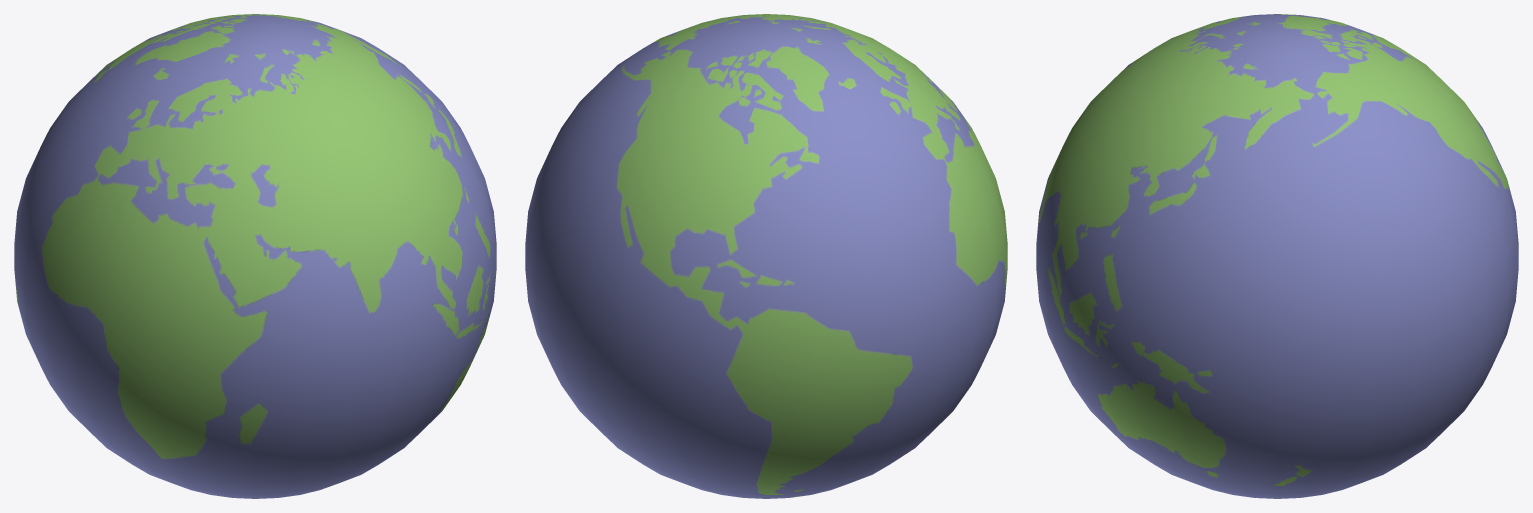
File: Earth Model.fbx
3 views of the same model, side by side, from view 1: azimuth 30°, elevation 25°; view 2: azimuth 150°, elevation 25°; view 3: azimuth 270°, elevation 25° (orthographic).
Visible parts, largest first — view 1: pSphere1; view 2: pSphere1; view 3: pSphere1.
Part boxes in pixels (<box>): pSphere1: <box>14,14,496,498</box>; pSphere1: <box>525,14,1007,498</box>; pSphere1: <box>1036,14,1518,498</box>.
Size of the model in its own units: 2 by 2 by 1.99.
